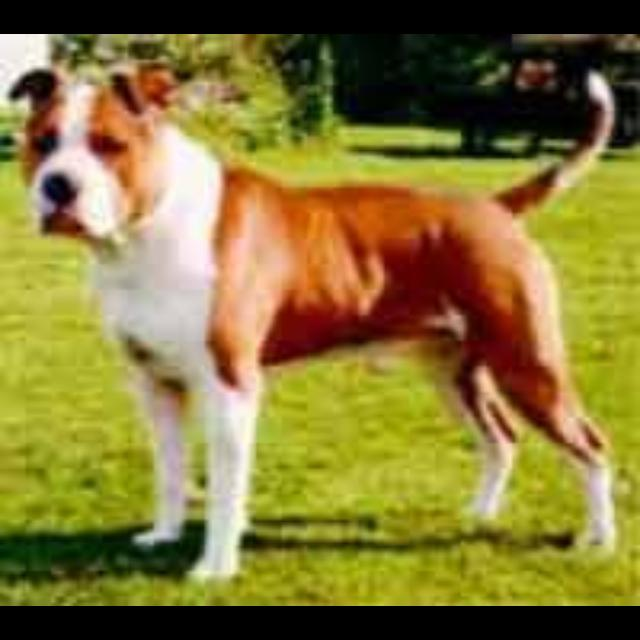staffford: (8, 57, 619, 585)
